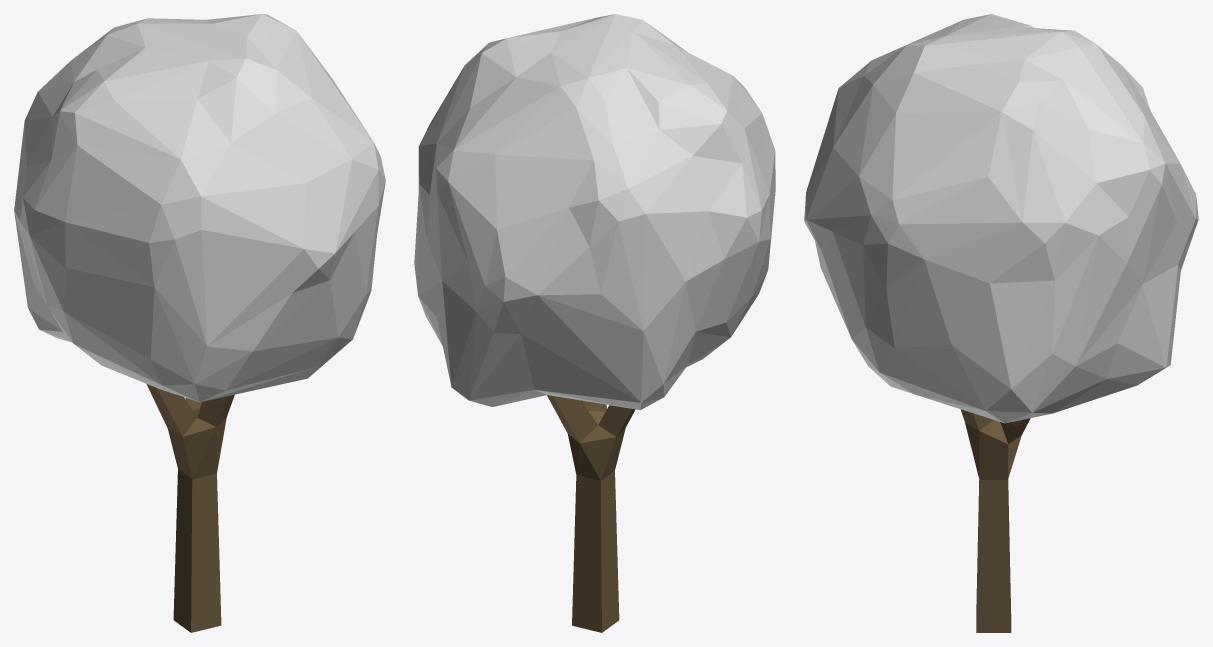
Rendered from medium-tree-3.glb.
The picture shows the model from 3 angles, left to right: view 1: azimuth 30°, elevation 25°; view 2: azimuth 150°, elevation 25°; view 3: azimuth 270°, elevation 25°; orthographic projection.
Parts seen in each view (by area): view 1: medium-tree-3; view 2: medium-tree-3; view 3: medium-tree-3.
Boxes of the visible parts, <box> form: medium-tree-3: <box>14,14,385,632</box>; medium-tree-3: <box>414,14,775,632</box>; medium-tree-3: <box>804,14,1198,632</box>.
Size of the model in its own units: 0.1757 by 0.2982 by 0.1818.
